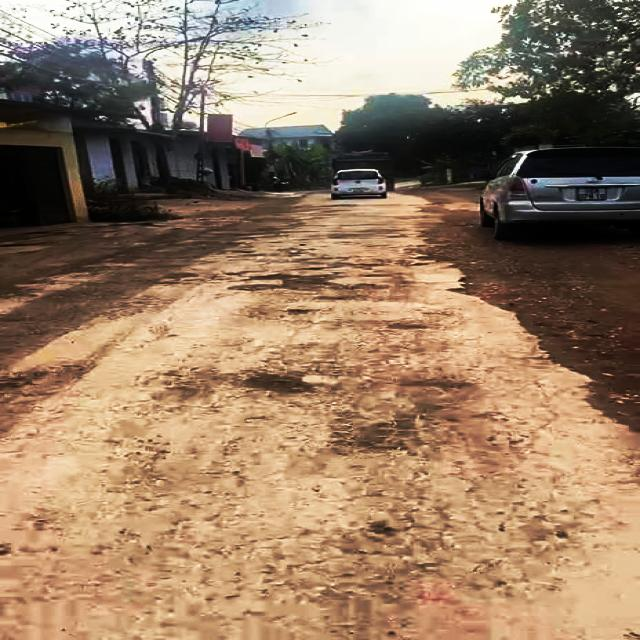pothole: (236, 271, 353, 291), (242, 369, 312, 396)
